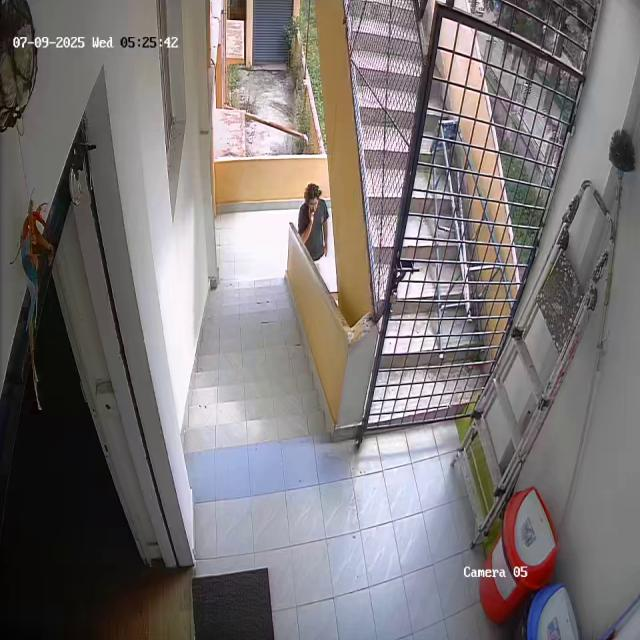person: (298, 181, 332, 272)
